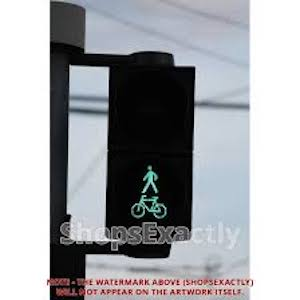green: (131, 161, 169, 220)
